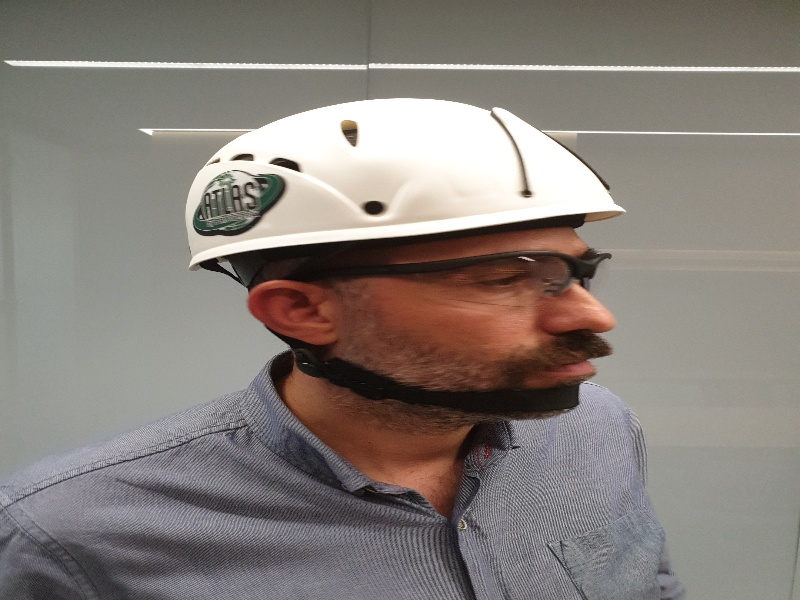Baret: (183, 100, 633, 244)
Gozluk: (280, 248, 609, 306)
